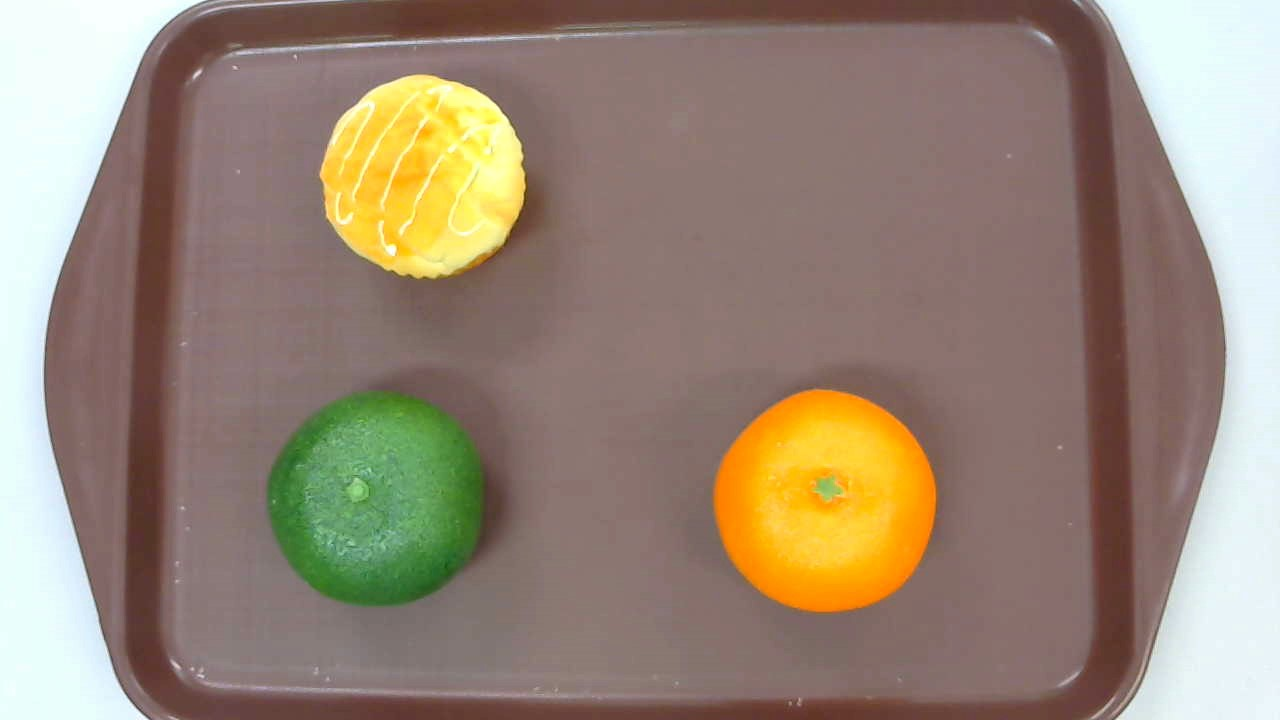cupcake: (319, 73, 528, 284)
green orange: (266, 389, 485, 609)
orange: (711, 389, 936, 613)
